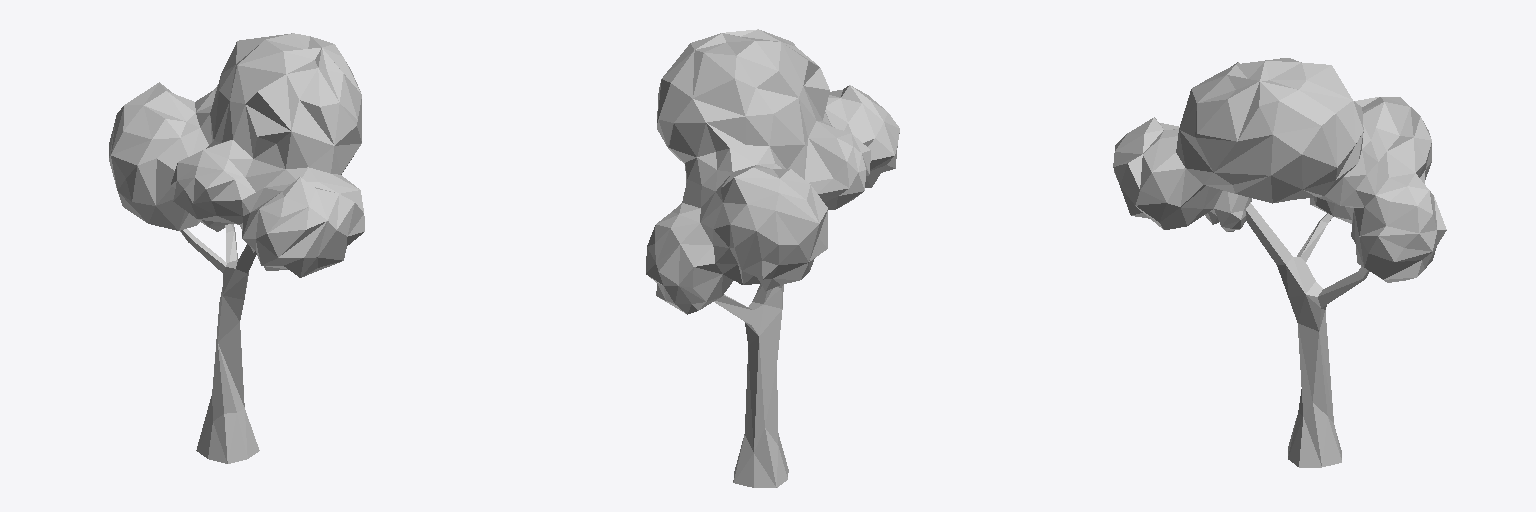
File: _3_tree.obj
3 views of the same model, side by side, from view 1: azimuth 30°, elevation 25°; view 2: azimuth 150°, elevation 25°; view 3: azimuth 270°, elevation 25° (orthographic).
Parts seen in each view (by area): view 1: _3_tree_Sphere.007; view 2: _3_tree_Sphere.007; view 3: _3_tree_Sphere.007.
Boxes of the visible parts, x1,y1,x2,y2 form: _3_tree_Sphere.007: [109, 33, 364, 463]; _3_tree_Sphere.007: [646, 29, 899, 487]; _3_tree_Sphere.007: [1113, 58, 1446, 467].
Size of the model in its own units: 0.7953 by 1.58 by 1.17.